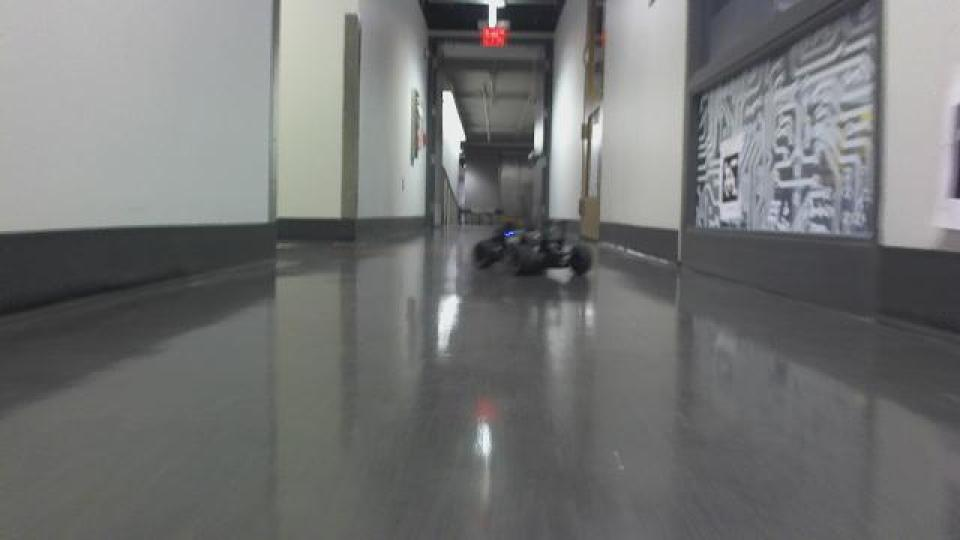car: (468, 220, 594, 286)
